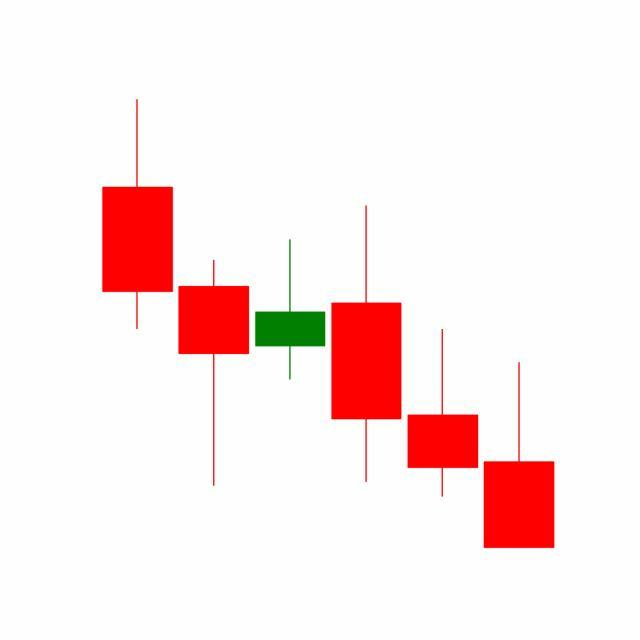Three Outside Up-Down: (252, 204, 482, 502)
